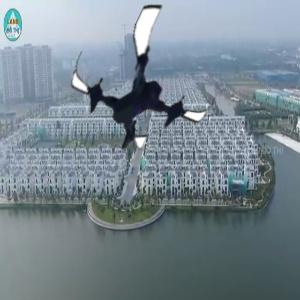drone: (69, 4, 223, 158)
